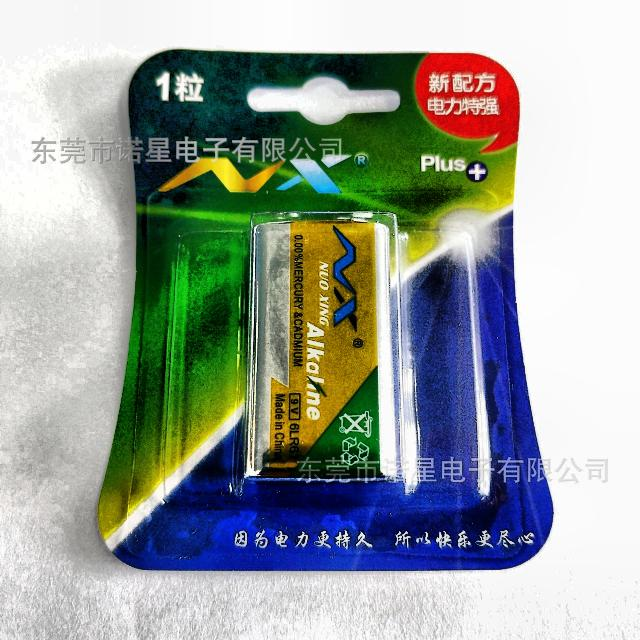Non-Valuable Waste - Batteries: (249, 220, 398, 480)
